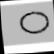no answer: (18, 7, 51, 36)
